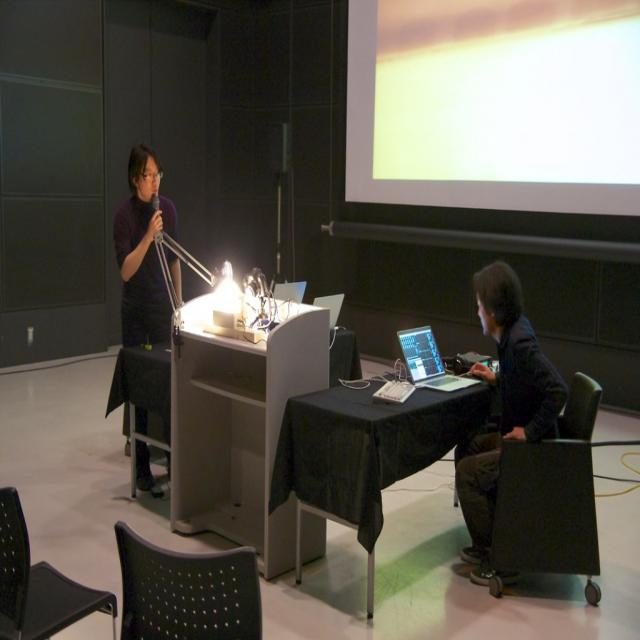chair: (1, 483, 118, 637), (114, 519, 264, 635), (556, 370, 603, 441)
desk: (278, 323, 513, 614)
laptop: (396, 324, 484, 392)
person: (452, 258, 570, 588), (112, 142, 184, 499)
tv: (343, 1, 638, 234)
